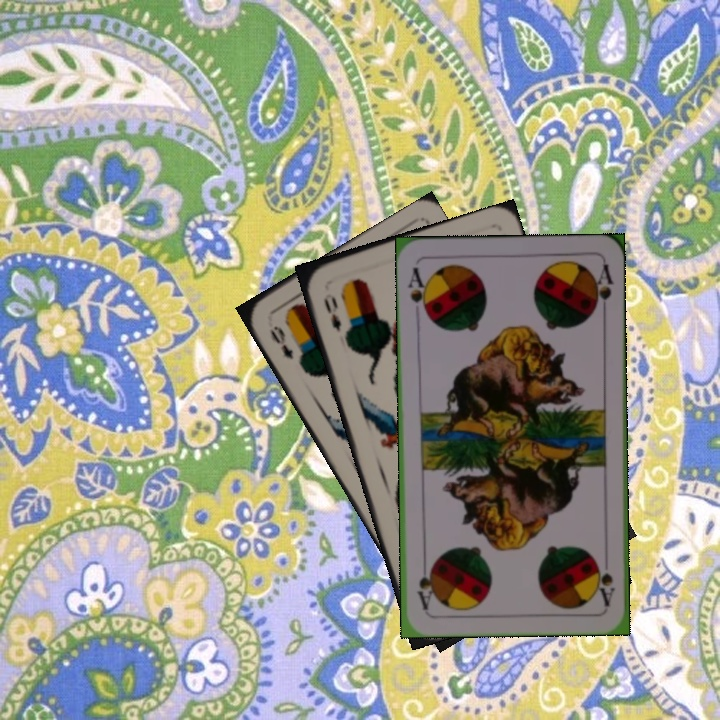EO: (265, 321, 296, 362), (319, 289, 344, 335)
SA: (404, 263, 431, 321), (593, 556, 617, 608)
